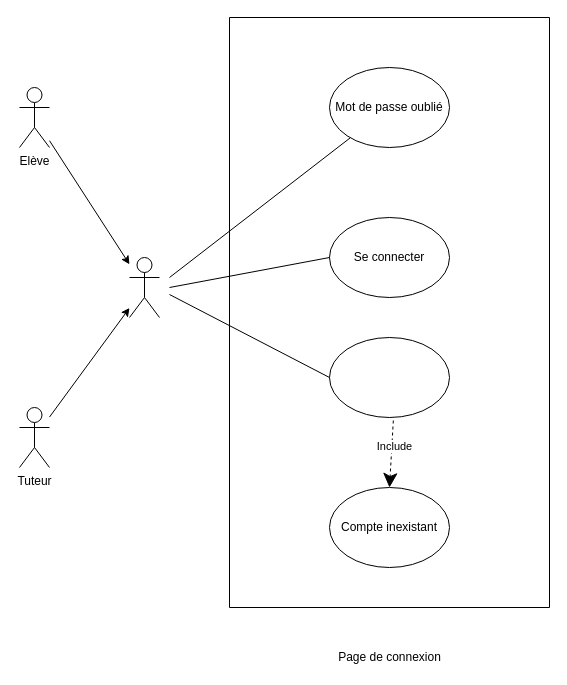
This 567x685 diagram has some shape labels left out. The shapes that lost their labels are listed below. From the top down, each one's centre as x and y in pixels, then its label:
At pixel 144 287: "Utilisateur".
At pixel 389 377: "Création compte".
